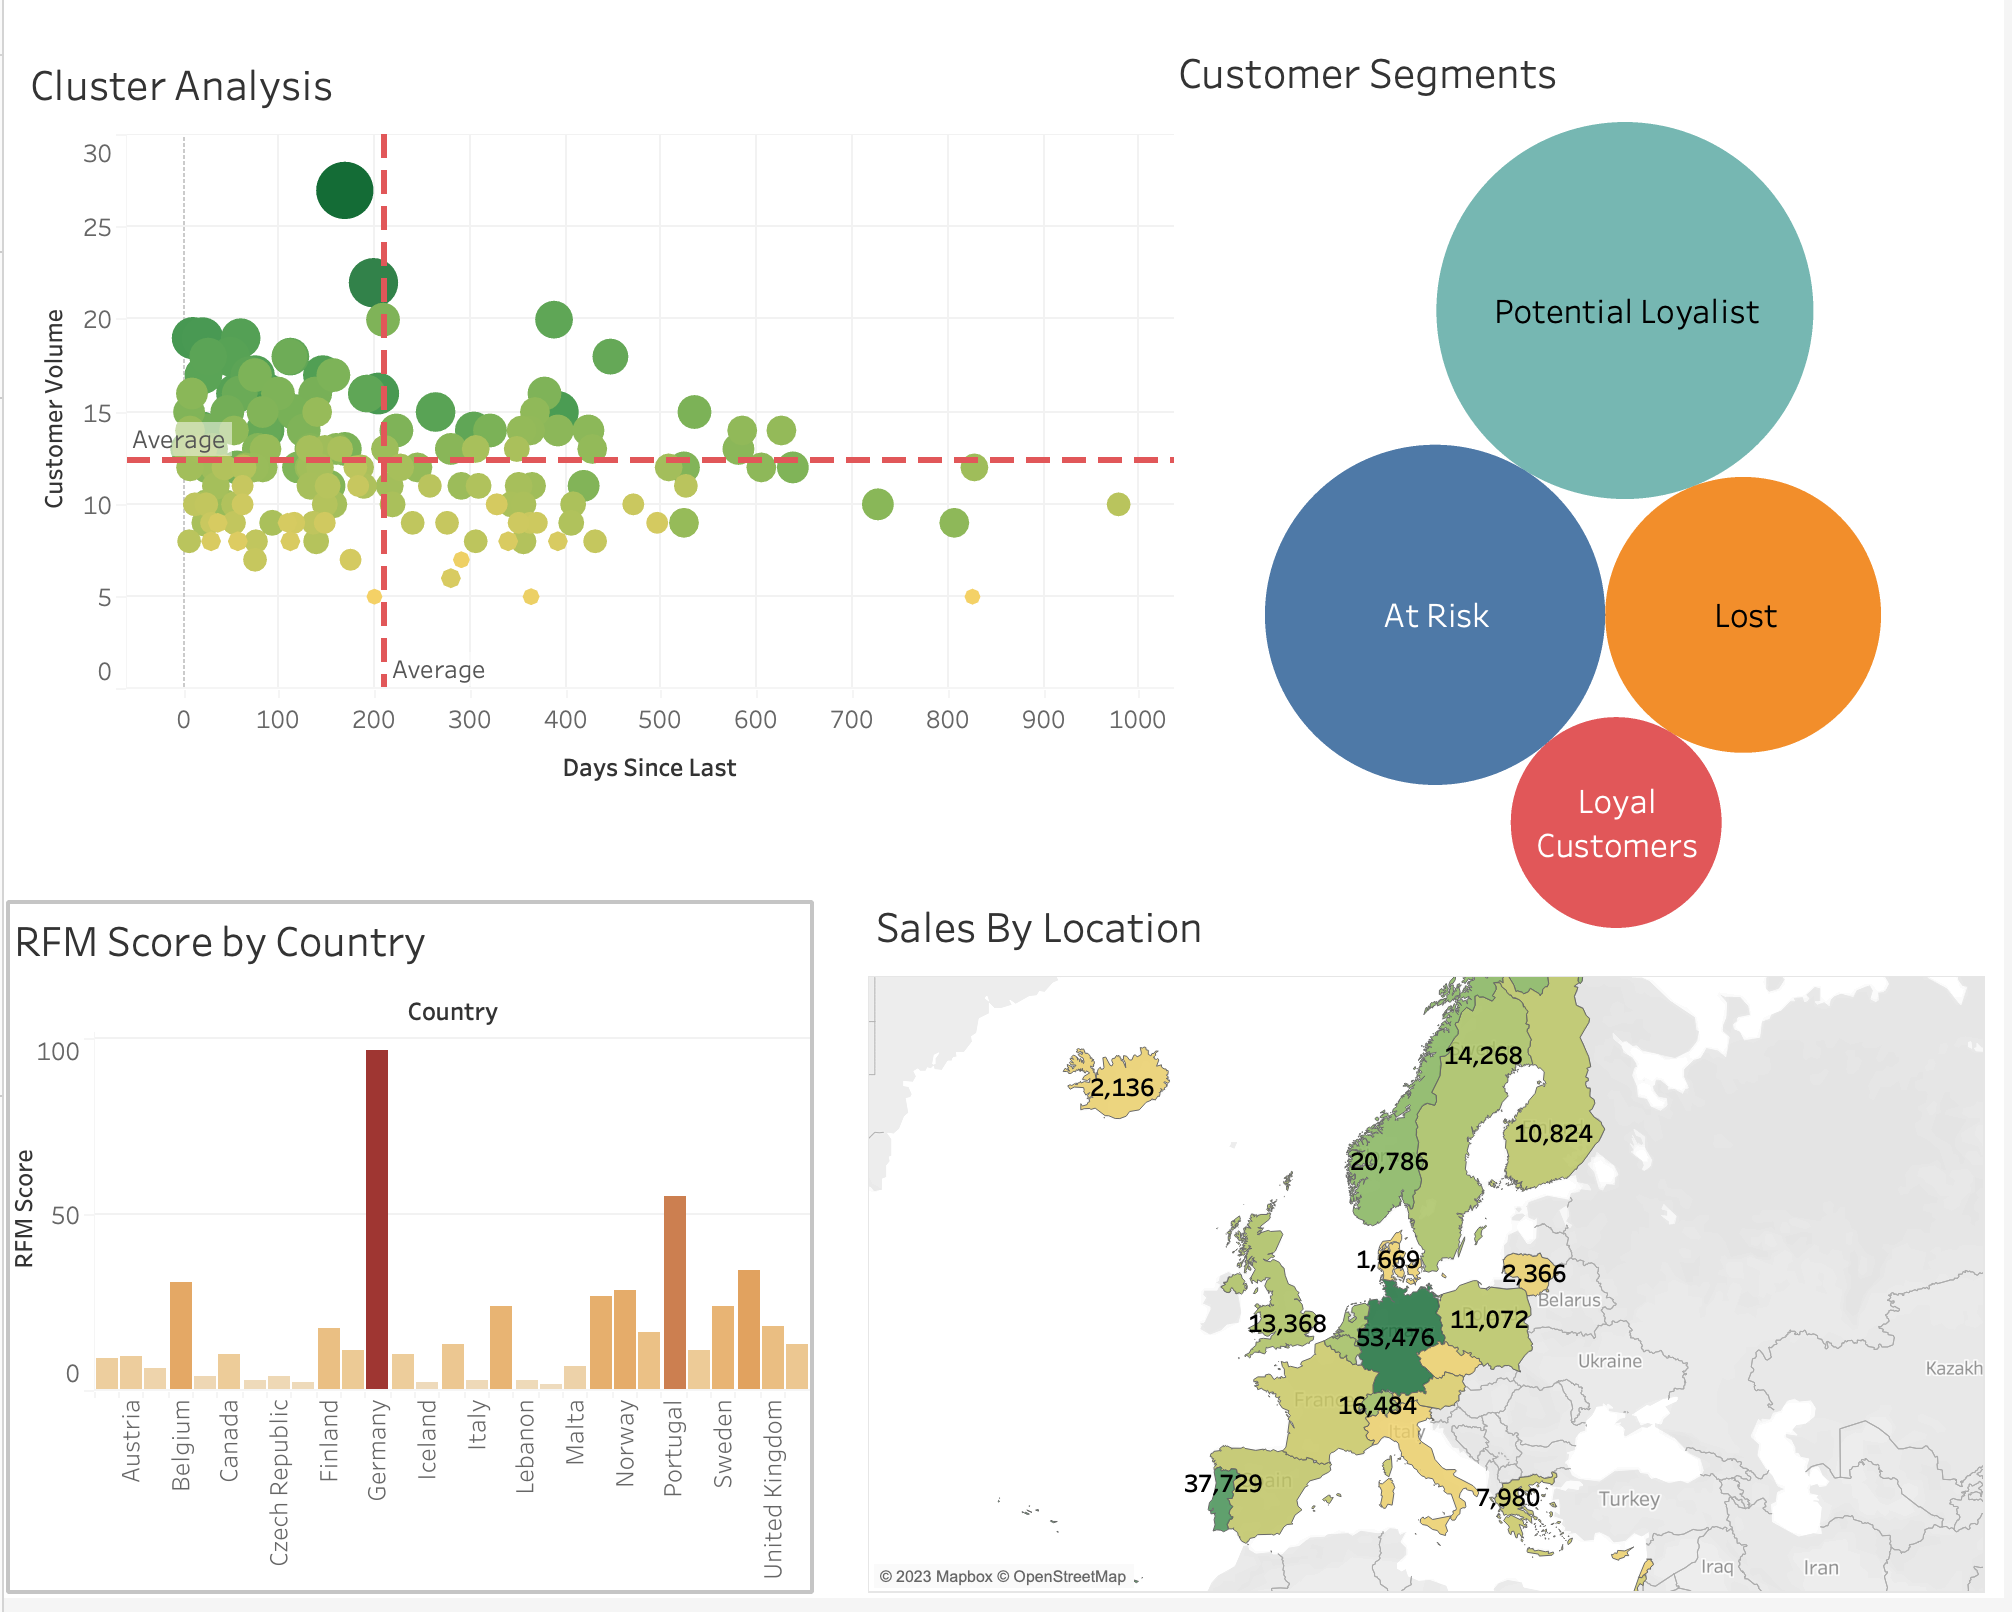

The page's visual inventory and layout, read from the dashboard file:
{"tool":"tableau","page":{"name":"Dashboard 1","canvas":[1000,800],"ordinal":0},"visuals":[{"type":"title","box":[8,8,984,430]},{"type":"worksheet","title":"Customer Segments","mark":"Circle","box":[583,19,403,463]},{"type":"worksheet","title":"Cluster Analysis","mark":"Automatic","rows":["CustomerVolume"],"cols":["DaysSinceLast"],"box":[9,25,576,375]},{"type":"worksheet","title":"Sales by location","mark":"Automatic","box":[432,446,559,352]},{"type":"worksheet","title":"RFM Score by County","mark":"Automatic","rows":["RFM Score"],"cols":["Country"],"box":[1,453,402,343]}]}

Visuals, with their boxes in screenshot pixels (x1, y1, x2, y2), scaled from the page's 1000x800 canvas onto the 2012x1612 screenshot:
title: rect(16, 16, 1996, 883)
"Customer Segments" worksheet (Circle marks): rect(1173, 38, 1984, 971)
"Cluster Analysis" worksheet: rect(18, 50, 1177, 806)
"Sales by location" worksheet: rect(869, 899, 1994, 1608)
"RFM Score by County" worksheet: rect(2, 913, 811, 1604)
